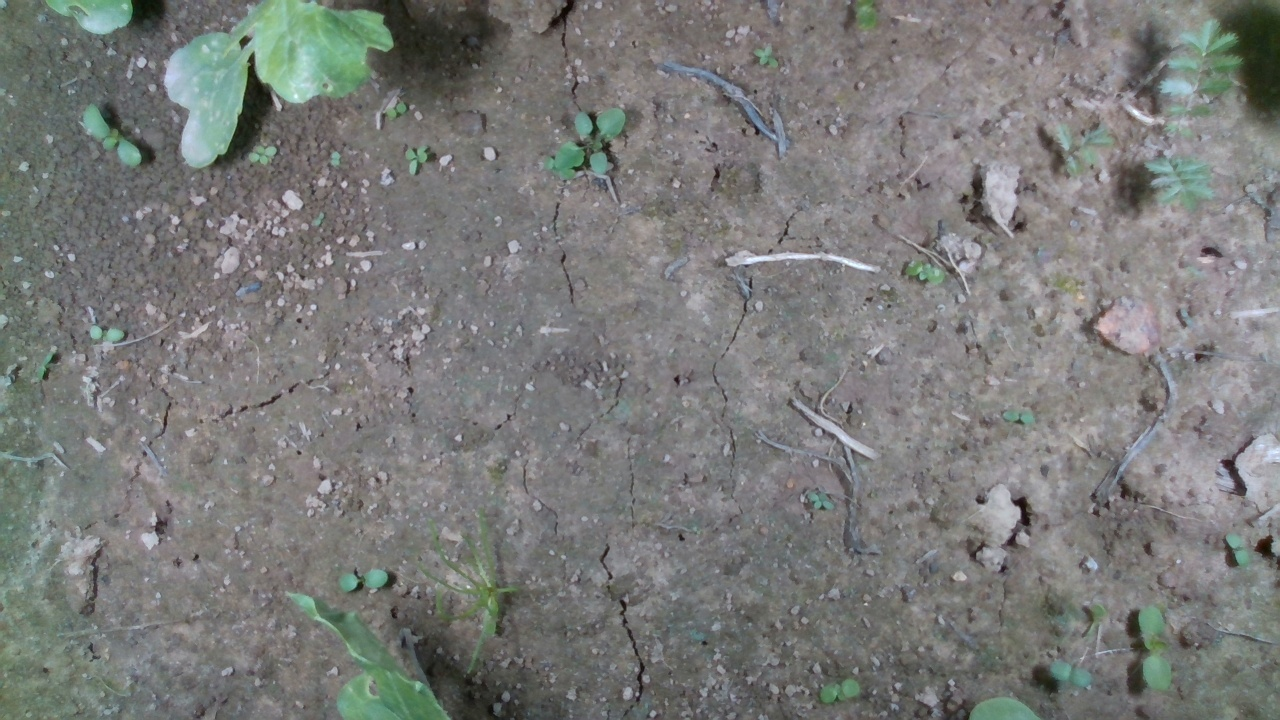weed: (81, 102, 144, 170), (1137, 603, 1173, 691), (1047, 660, 1094, 689), (334, 569, 388, 593), (817, 678, 860, 705), (905, 260, 946, 285), (1224, 530, 1250, 566), (751, 41, 779, 70), (246, 142, 278, 167), (404, 144, 429, 175), (88, 324, 127, 342), (35, 348, 54, 383), (1002, 409, 1035, 425), (384, 102, 408, 119), (328, 149, 340, 169)
